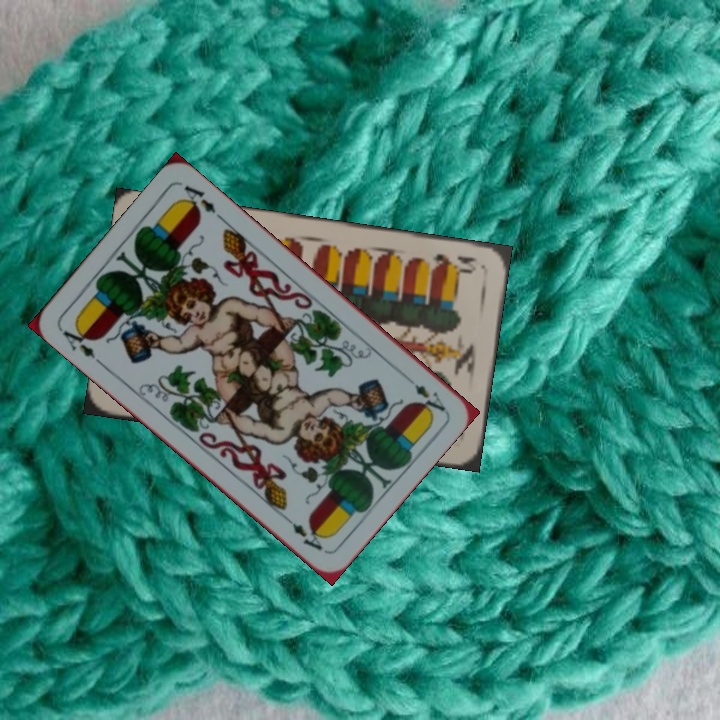E10: (428, 249, 479, 275)
EA: (56, 320, 98, 361), (410, 380, 448, 416)
